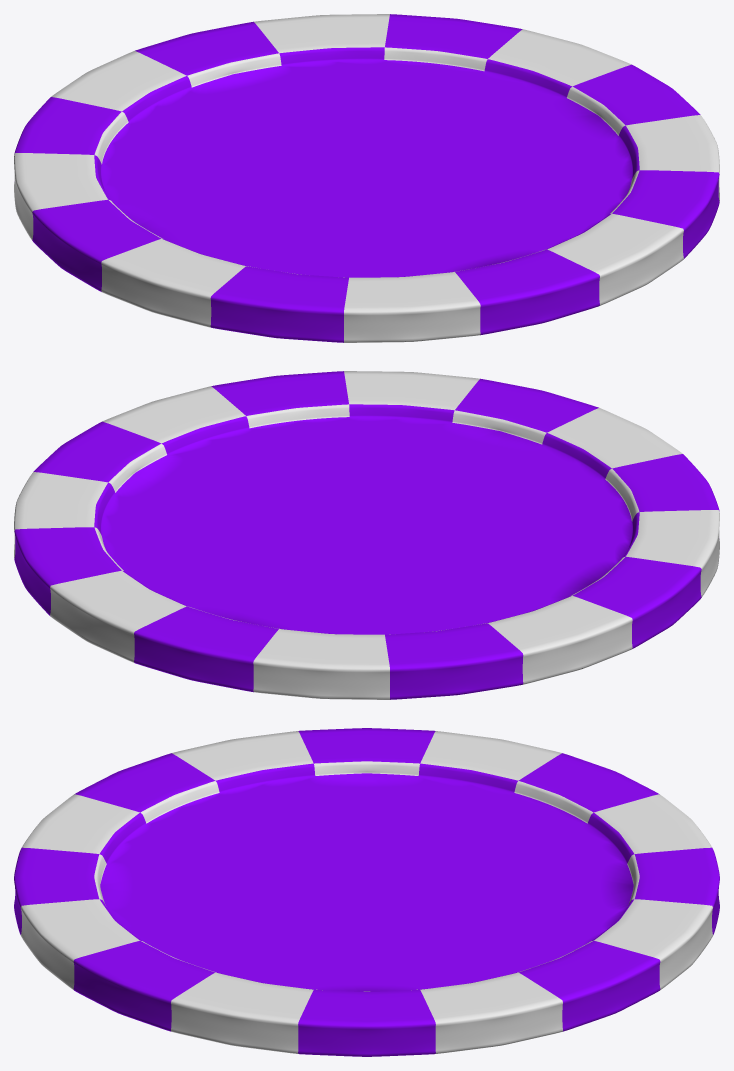
The model's file is Chip_Purple.fbx.
The picture shows the model from 3 angles, top to bottom: view 1: azimuth 30°, elevation 25°; view 2: azimuth 150°, elevation 25°; view 3: azimuth 270°, elevation 25°; orthographic projection.
Parts seen in each view (by area): view 1: Chip_Purple; view 2: Chip_Purple; view 3: Chip_Purple.
Part boxes in pixels (x1,y1,x2,y2): Chip_Purple: [14, 14, 719, 342]; Chip_Purple: [14, 371, 719, 699]; Chip_Purple: [14, 728, 719, 1056].
Bounding box in the file's own units: 199 × 10.01 × 199.
